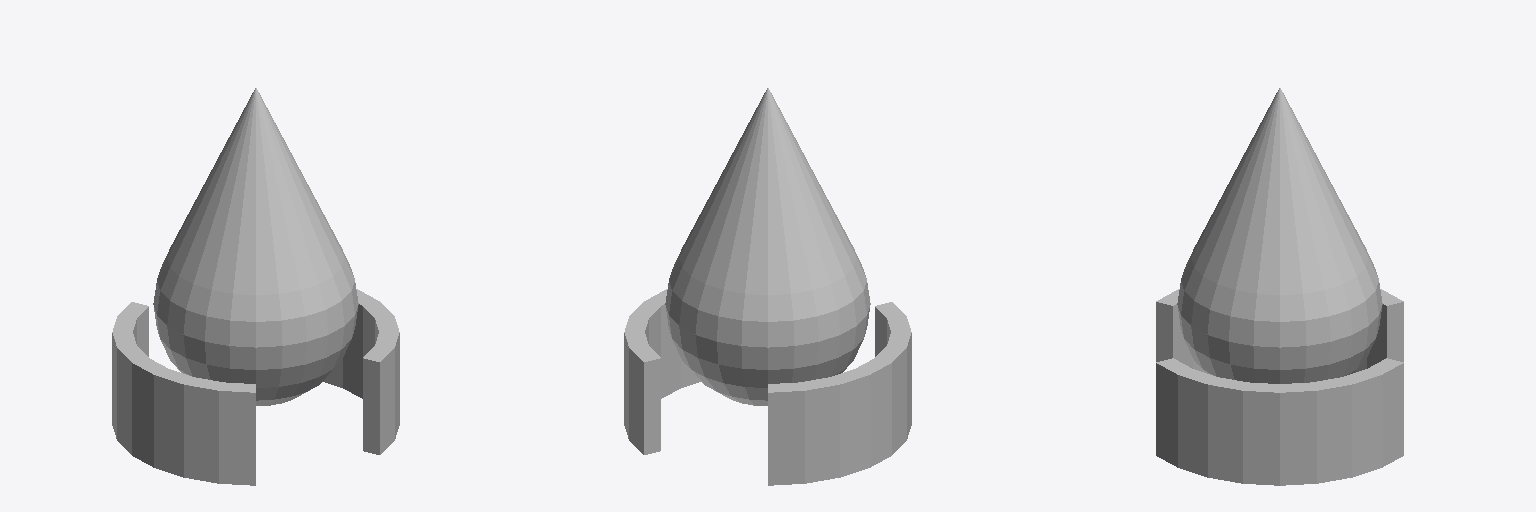
The model's file is ship.obj.
The picture shows the model from 3 angles: view 1: azimuth 30°, elevation 25°; view 2: azimuth 150°, elevation 25°; view 3: azimuth 270°, elevation 25°; orthographic projection.
Visible parts, largest first — view 1: ship.obj; view 2: ship.obj; view 3: ship.obj.
Boxes of the visible parts, <box> form: ship.obj: <box>112,88,399,485</box>; ship.obj: <box>624,88,911,485</box>; ship.obj: <box>1156,88,1403,485</box>.
Bounding box in the file's own units: 1.4 × 1.82 × 1.21.